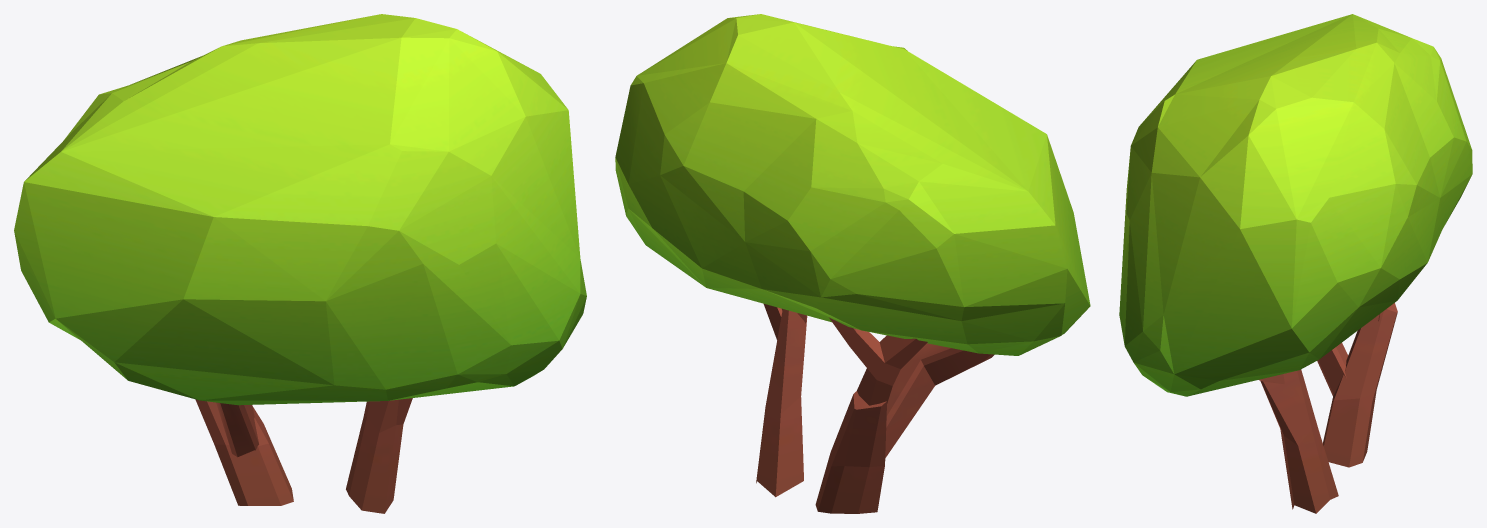
The picture shows the model from 3 angles, left to right: view 1: azimuth 30°, elevation 25°; view 2: azimuth 150°, elevation 25°; view 3: azimuth 270°, elevation 25°; orthographic projection. The views are drawn at different scales.
Parts seen in each view (by area): view 1: Bush; view 2: Bush; view 3: Bush.
Part boxes in pixels (left/top/right/bottom): Bush: left=14, top=14, right=586, bottom=513; Bush: left=615, top=14, right=1090, bottom=513; Bush: left=1119, top=14, right=1472, bottom=513.
Size of the model in its own units: 3.22 by 2.87 by 2.11.
1 material, 1 textured.
